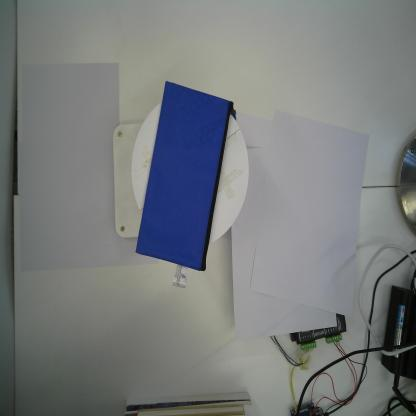Stationery: (134, 79, 238, 289)
